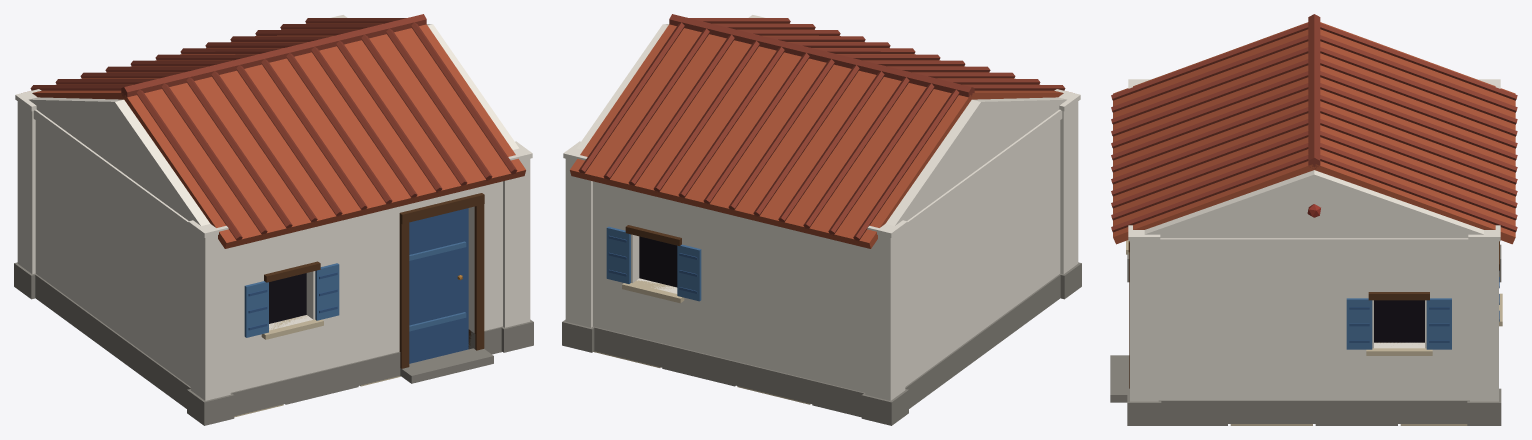
File: House_Small.glb
3 renders of one model, left to right at view 1: azimuth 30°, elevation 25°; view 2: azimuth 150°, elevation 25°; view 3: azimuth 270°, elevation 25°, orthographic.
Parts seen in each view (by area): view 1: Roof_Gable.001, Roof_Gable.002, Wall_Door.001, Wall_Window.001, Wall_Plain.004, Wall_Plain.003, Wall_Corner.004, Roof_GableEnd.002, Wall_Corner.002, Wall_Corner.003, Roof_GableEnd.001; view 2: Roof_Gable.001, Roof_Gable.002, Wall_Window.002, Wall_Plain.001, Wall_Plain.003, Wall_Plain.004, Wall_Corner.003, Roof_GableEnd.002, Wall_Corner.001, Wall_Corner.004, Roof_GableEnd.001; view 3: Roof_Gable.002, Roof_Gable.001, Wall_Plain.002, Wall_Window.003, Roof_GableEnd.001, Wall_Corner.001, Wall_Corner.002, Wall_Door.001.
Boxes of the visible parts, bbox=[...] form: Roof_Gable.001: bbox=[30, 50, 376, 248]; Roof_Gable.002: bbox=[180, 14, 525, 212]; Wall_Door.001: bbox=[366, 181, 503, 383]; Wall_Window.001: bbox=[230, 215, 366, 416]; Wall_Plain.004: bbox=[33, 109, 114, 354]; Wall_Plain.003: bbox=[113, 167, 190, 408]; Wall_Corner.004: bbox=[187, 220, 234, 425]; Roof_GableEnd.002: bbox=[29, 97, 210, 225]; Wall_Corner.002: bbox=[501, 141, 533, 352]; Wall_Corner.003: bbox=[14, 89, 41, 299]; Roof_GableEnd.001: bbox=[427, 24, 519, 149]; Roof_Gable.001: bbox=[719, 50, 1065, 248]; Roof_Gable.002: bbox=[570, 14, 915, 212]; Wall_Window.002: bbox=[593, 181, 729, 383]; Wall_Plain.001: bbox=[729, 215, 865, 416]; Wall_Plain.003: bbox=[981, 109, 1062, 354]; Wall_Plain.004: bbox=[905, 167, 982, 408]; Wall_Corner.003: bbox=[861, 220, 908, 425]; Roof_GableEnd.002: bbox=[885, 97, 1066, 225]; Wall_Corner.001: bbox=[562, 141, 594, 352]; Wall_Corner.004: bbox=[1054, 89, 1081, 299]; Roof_GableEnd.001: bbox=[576, 24, 668, 149]; Roof_Gable.002: bbox=[1111, 86, 1517, 244]; Roof_Gable.001: bbox=[1111, 14, 1517, 165]; Wall_Plain.002: bbox=[1158, 238, 1314, 423]; Wall_Window.003: bbox=[1314, 238, 1469, 423]; Roof_GableEnd.001: bbox=[1144, 170, 1483, 238]; Wall_Corner.001: bbox=[1467, 225, 1501, 425]; Wall_Corner.002: bbox=[1127, 225, 1161, 425]; Wall_Door.001: bbox=[1110, 241, 1129, 402].
Bounding box in the file's own units: 4.42 × 3.49 × 4.79.
